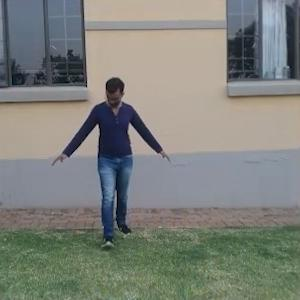land: (54, 57, 188, 257)
